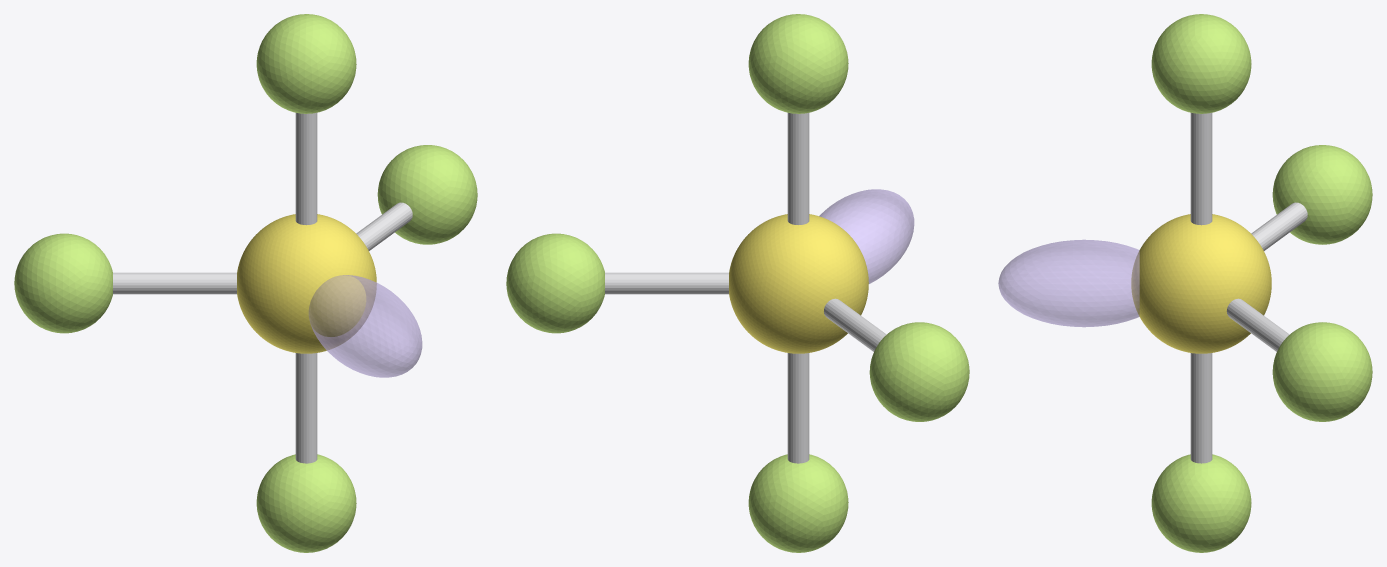
3 renders of one model, left to right at view 1: azimuth 30°, elevation 25°; view 2: azimuth 150°, elevation 25°; view 3: azimuth 270°, elevation 25°, orthographic.
Visible parts, largest first — view 1: S_centre, lone_pair_2, F_0, F_3, F_1, F_4, bond_3, bond_0, bond_1, bond_4; view 2: S_centre, F_0, F_3, F_4, F_1, lone_pair_2, bond_4, bond_0, bond_1, bond_3; view 3: S_centre, lone_pair_2, F_0, F_4, F_1, F_3, bond_0, bond_1, bond_4, bond_3.
Boxes of the visible parts, bbox=[...] form: S_centre: bbox=[237, 214, 376, 353]; lone_pair_2: bbox=[309, 275, 422, 377]; F_0: bbox=[256, 14, 356, 113]; F_3: bbox=[14, 233, 112, 333]; F_1: bbox=[256, 454, 356, 552]; F_4: bbox=[377, 145, 477, 244]; bond_3: bbox=[113, 272, 236, 294]; bond_0: bbox=[295, 112, 317, 225]; bond_1: bbox=[295, 353, 317, 463]; bond_4: bbox=[356, 202, 412, 250]; S_centre: bbox=[729, 214, 868, 353]; F_0: bbox=[748, 14, 848, 113]; F_3: bbox=[869, 322, 969, 421]; F_4: bbox=[506, 233, 604, 333]; F_1: bbox=[748, 454, 848, 552]; lone_pair_2: bbox=[819, 189, 914, 283]; bond_4: bbox=[605, 272, 728, 294]; bond_0: bbox=[787, 112, 809, 224]; bond_1: bbox=[787, 353, 809, 463]; bond_3: bbox=[824, 298, 886, 351]; S_centre: bbox=[1131, 214, 1271, 353]; lone_pair_2: bbox=[998, 239, 1139, 327]; F_0: bbox=[1151, 14, 1251, 113]; F_4: bbox=[1272, 322, 1372, 421]; F_1: bbox=[1151, 454, 1251, 552]; F_3: bbox=[1272, 145, 1372, 244]; bond_0: bbox=[1190, 112, 1212, 225]; bond_1: bbox=[1190, 353, 1212, 463]; bond_4: bbox=[1226, 298, 1289, 351]; bond_3: bbox=[1251, 202, 1307, 250].
Bounding box in the file's own units: 0.3325 × 0.374 × 0.2395.
